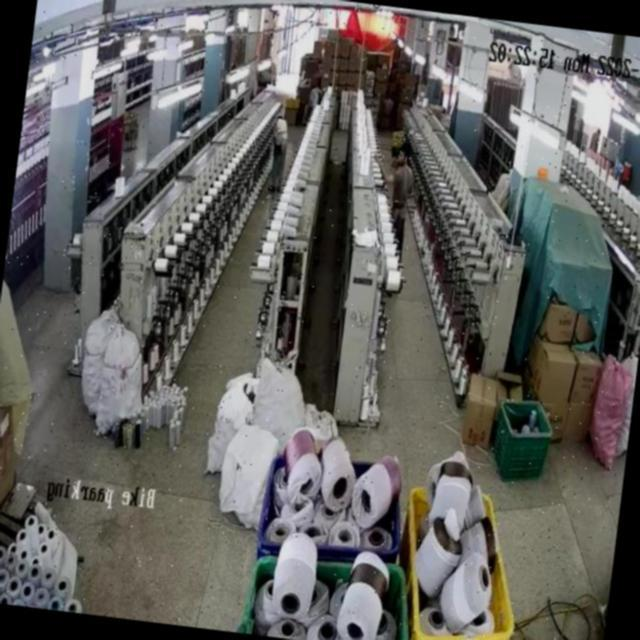person: (382, 144, 416, 230)
